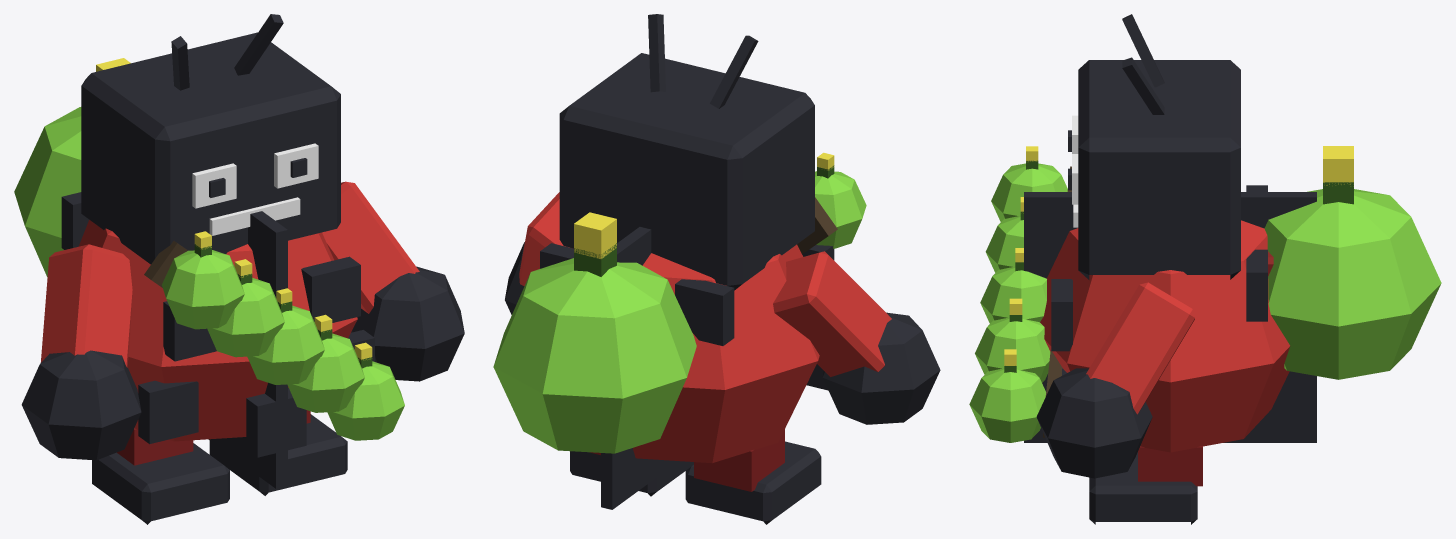
File: r10_mini_ladybug_bomber.glb
3 renders of one model, left to right at view 1: azimuth 30°, elevation 25°; view 2: azimuth 150°, elevation 25°; view 3: azimuth 270°, elevation 25°, orthographic. The views are drawn at different scales.
Parts seen in each view (by area): view 1: r10_mini_ladybug_bomber_mesh; view 2: r10_mini_ladybug_bomber_mesh; view 3: r10_mini_ladybug_bomber_mesh.
Boxes of the visible parts, x1=… form: r10_mini_ladybug_bomber_mesh: x1=14, y1=14, x2=464, y2=524; r10_mini_ladybug_bomber_mesh: x1=493, y1=14, x2=940, y2=524; r10_mini_ladybug_bomber_mesh: x1=969, y1=14, x2=1441, y2=524.
Size of the model in its own units: 3.47 by 3.6 by 3.48.
Materials: 1 (1 with a texture image).
